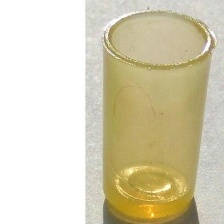glass: (89, 4, 219, 224)
